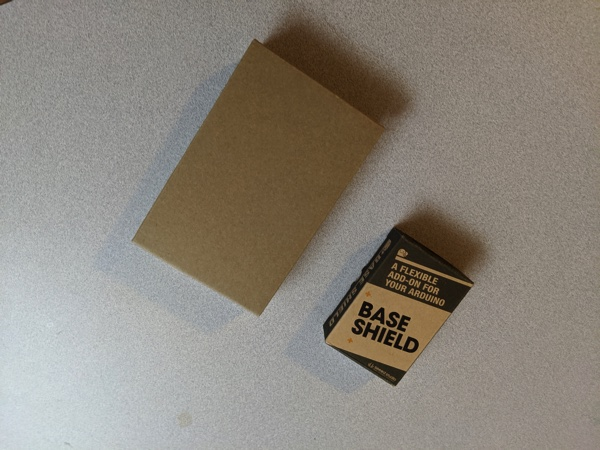cardboard: (107, 22, 389, 327), (317, 222, 484, 401)
